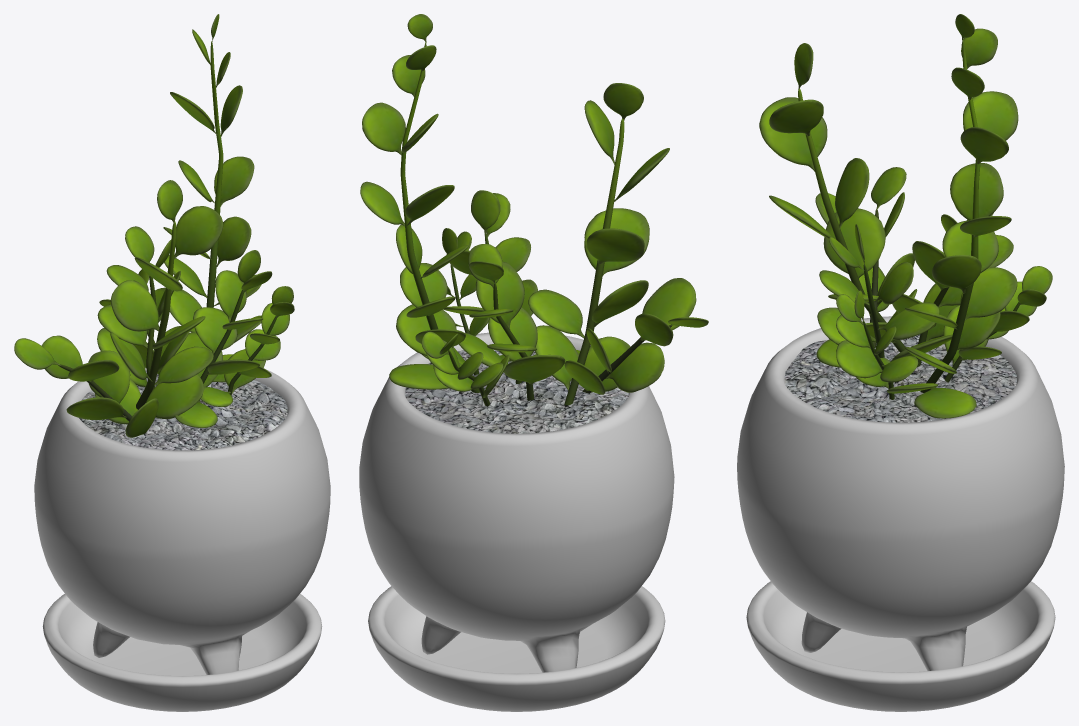
Rendered from DeskPlant.glb.
3 renders of one model, left to right at view 1: azimuth 30°, elevation 25°; view 2: azimuth 150°, elevation 25°; view 3: azimuth 270°, elevation 25°, orthographic. The views are drawn at different scales.
Visible parts, largest first — view 1: base, plant, soil; view 2: base, plant, soil; view 3: base, plant, soil.
Part boxes in pixels (<box>): base: <box>34,368,330,711</box>; plant: <box>14,14,294,437</box>; soil: <box>79,370,287,450</box>; base: <box>359,332,674,711</box>; plant: <box>360,14,708,406</box>; soil: <box>405,349,628,433</box>; base: <box>737,316,1064,711</box>; plant: <box>759,14,1052,418</box>; soil: <box>784,334,1016,422</box>.
Bounding box in the file's own units: 0.1971 × 0.3866 × 0.1677.
4 materials, 3 textured.
